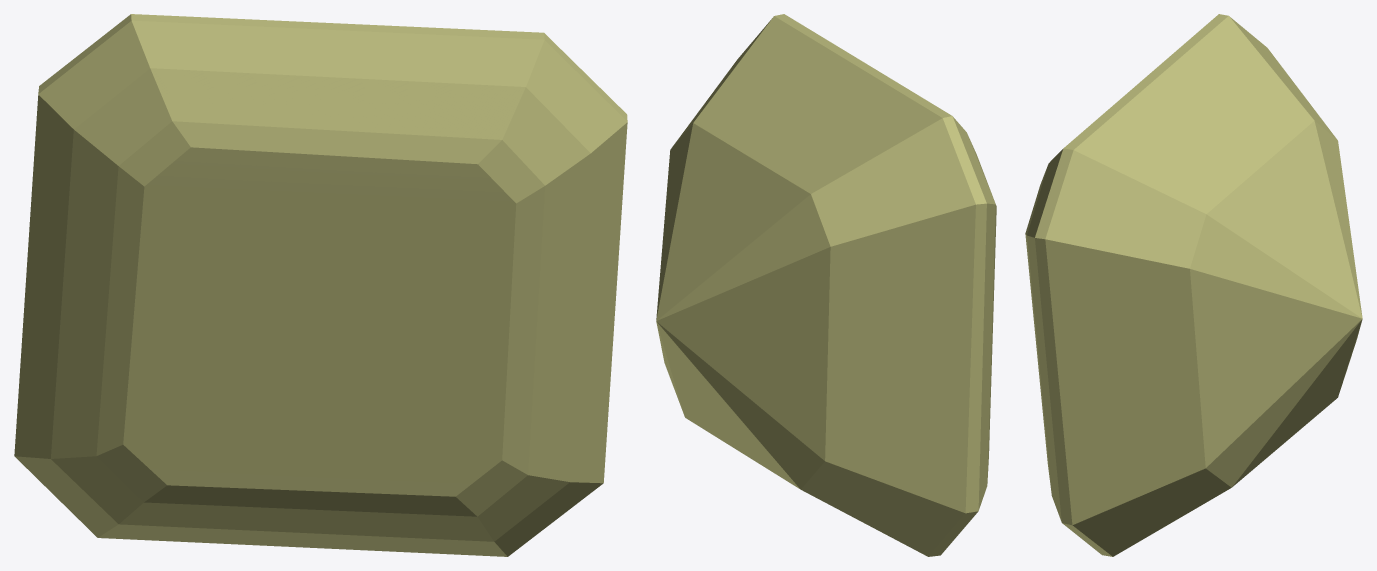
The model's file is TL2_8shapes_Square_Classic_Stone.001 2.glb.
3 views of the same model, side by side, from view 1: azimuth 30°, elevation 25°; view 2: azimuth 150°, elevation 25°; view 3: azimuth 270°, elevation 25° (orthographic). The views are drawn at different scales.
Parts seen in each view (by area): view 1: TL2_8shapes_Square_Classic_Stone.001; view 2: TL2_8shapes_Square_Classic_Stone.001; view 3: TL2_8shapes_Square_Classic_Stone.001.
Part boxes in pixels (x1=…): TL2_8shapes_Square_Classic_Stone.001: x1=14, y1=14, x2=627, y2=556; TL2_8shapes_Square_Classic_Stone.001: x1=656, y1=14, x2=996, y2=556; TL2_8shapes_Square_Classic_Stone.001: x1=1025, y1=14, x2=1362, y2=556.
Bounding box in the file's own units: 0.4649 × 0.538 × 0.3839.
